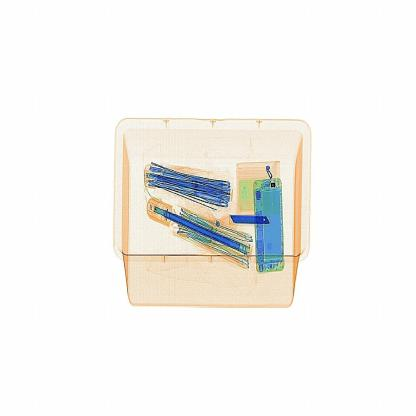pliers: (220, 203, 275, 236)
